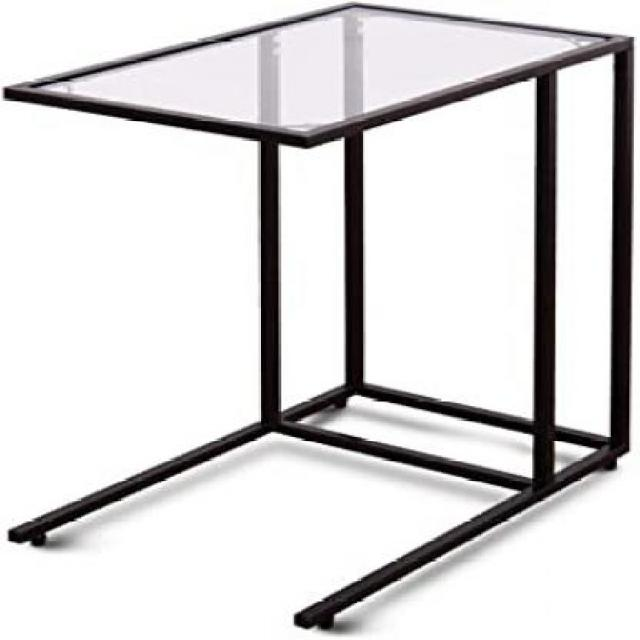table: (0, 4, 628, 630)
